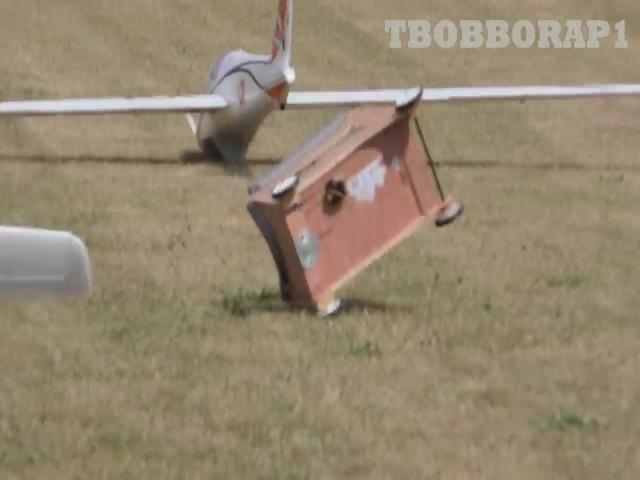Airplane: (1, 1, 640, 164)
